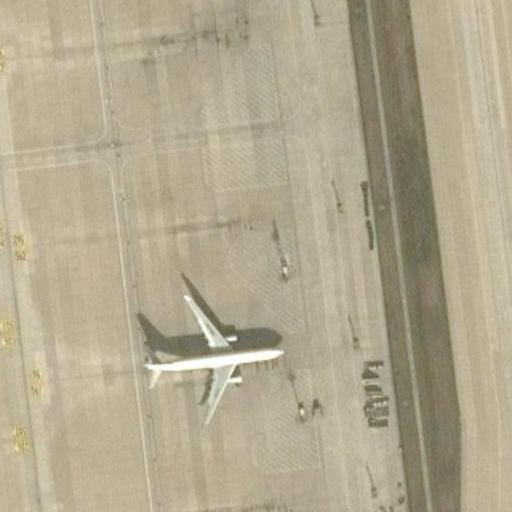Aircraft: (130, 274, 294, 427)
